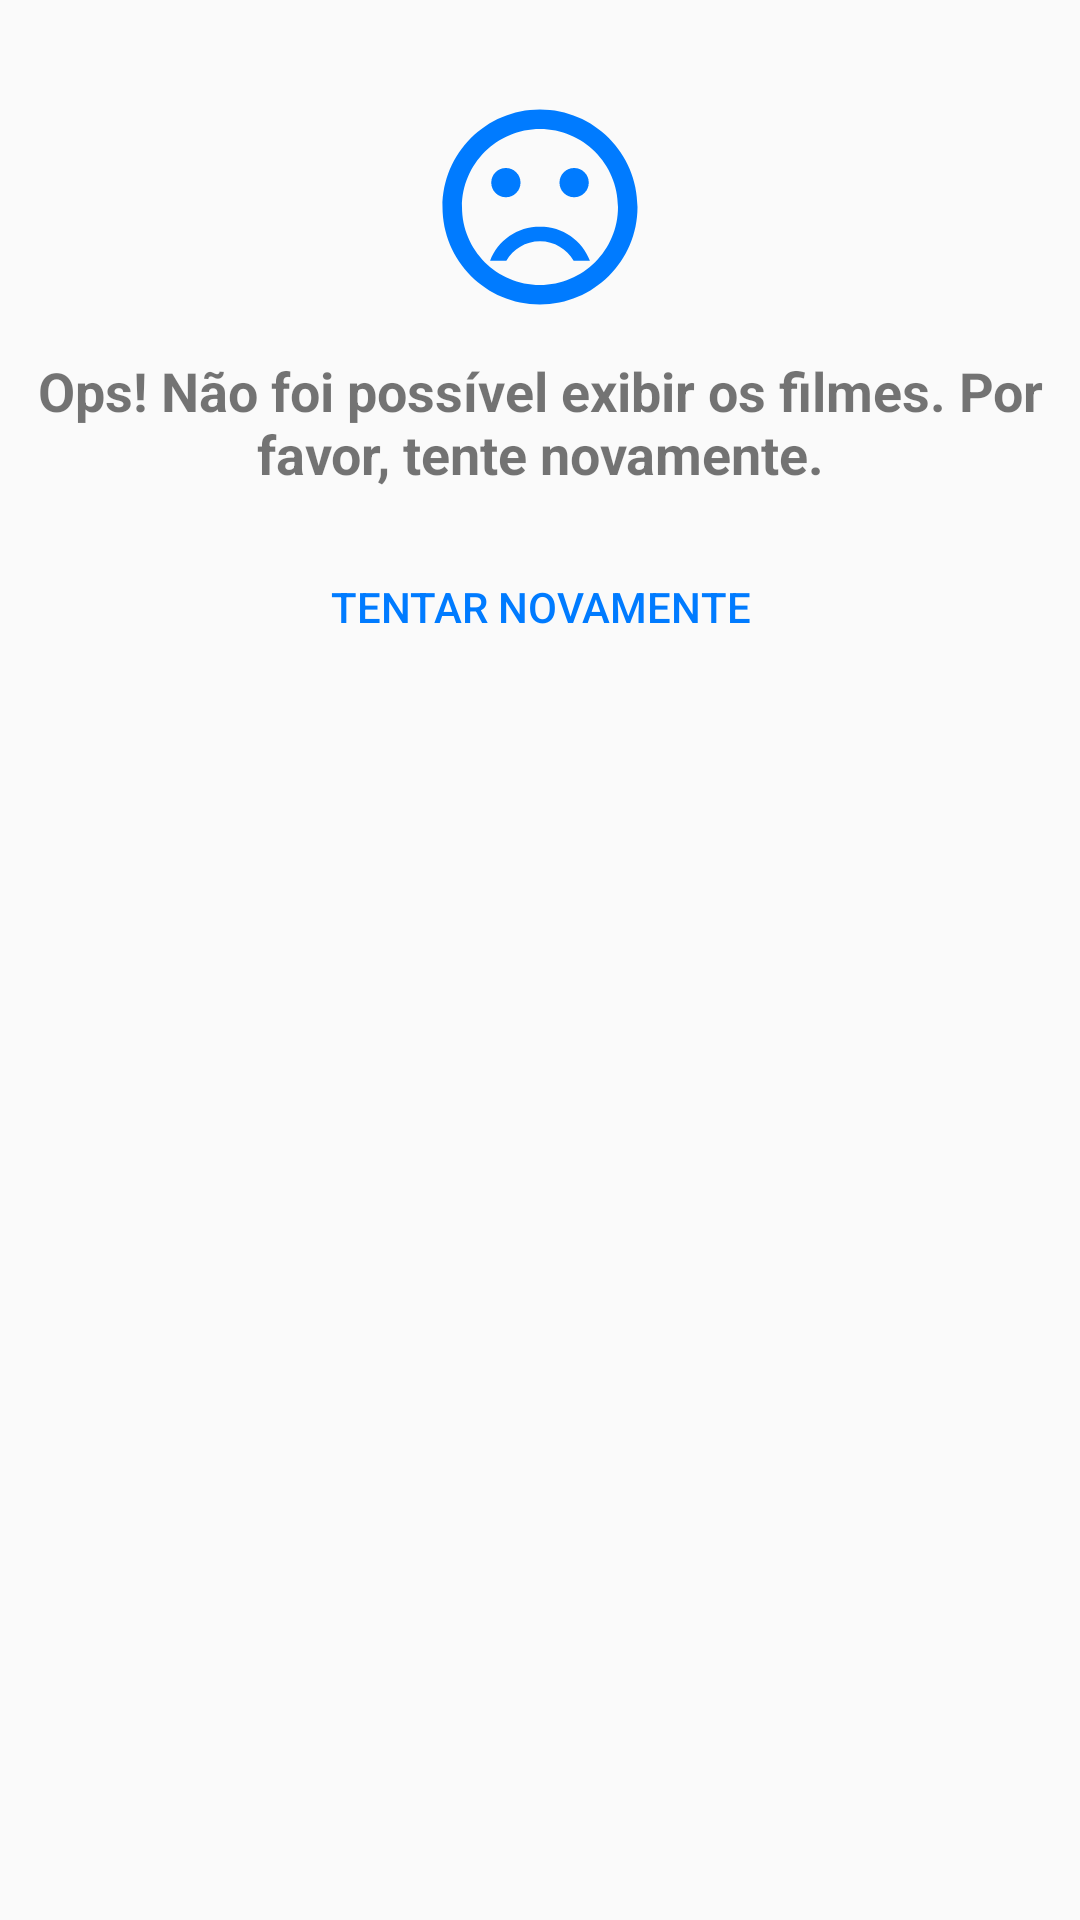

Where icons sit on this 1080px×1920px app screen, as (x1, y1, x2, y2):
sad: (442, 109, 638, 305)
